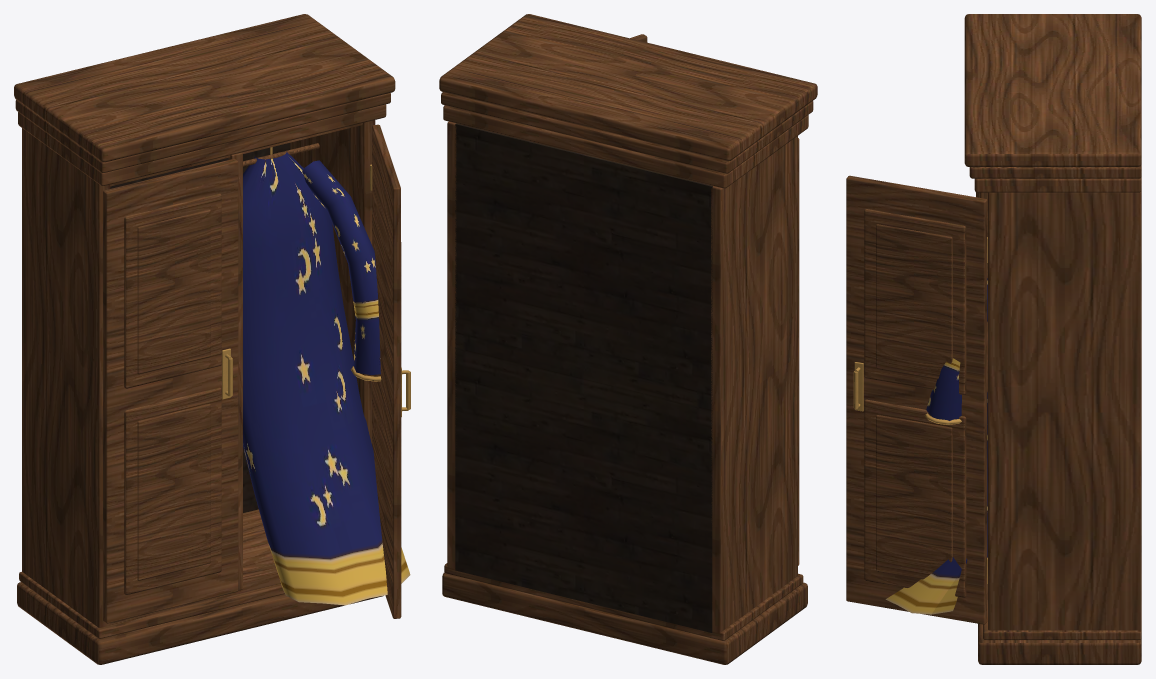
Rendered from prop_wardrobe.glb.
The picture shows the model from 3 angles, left to right: view 1: azimuth 30°, elevation 25°; view 2: azimuth 150°, elevation 25°; view 3: azimuth 270°, elevation 25°; orthographic projection.
Visible parts, largest first — view 1: prop; view 2: prop; view 3: prop.
Part boxes in pixels (x1=…): prop: x1=14, y1=14, x2=410, y2=664; prop: x1=439, y1=14, x2=817, y2=664; prop: x1=846, y1=14, x2=1141, y2=664.
Size of what is drawn, in the model's own units: 1 by 1.7 by 0.8847.
Materials: 4 (4 with a texture image).
